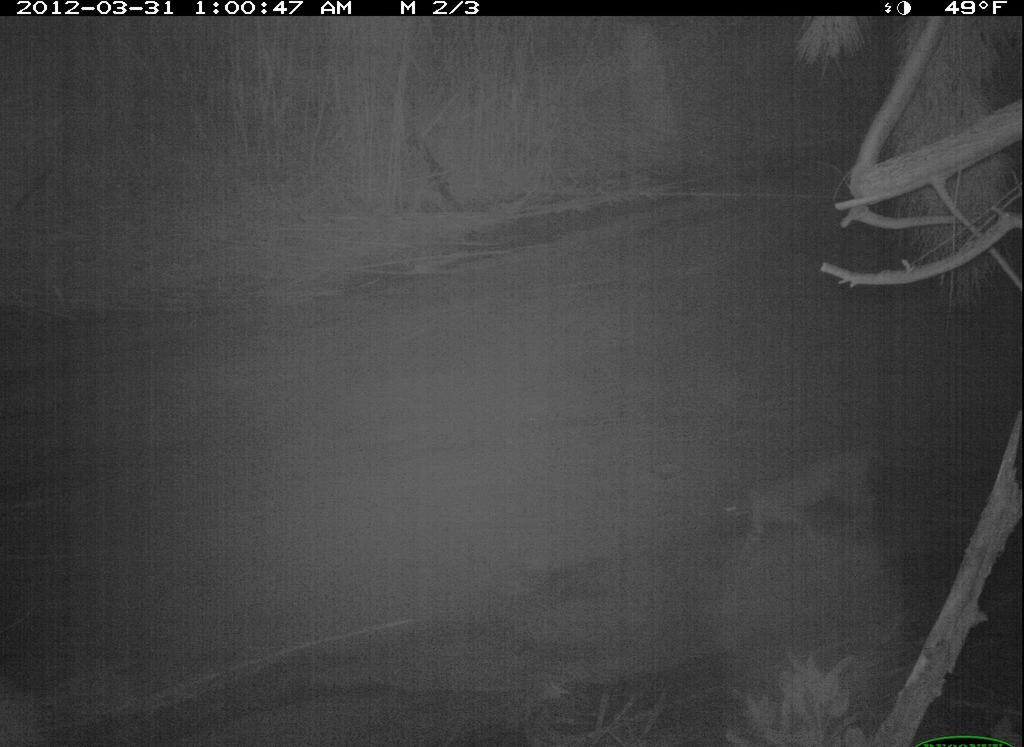bobcat: (711, 434, 882, 561)
